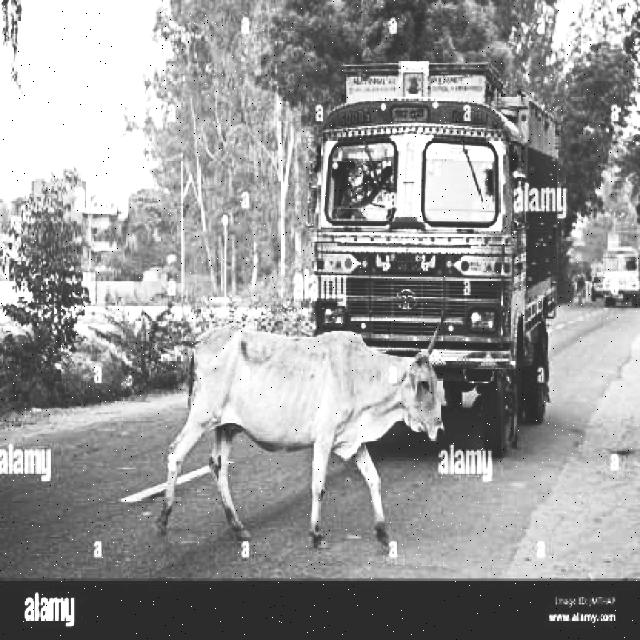HCV: (337, 63, 558, 449)
